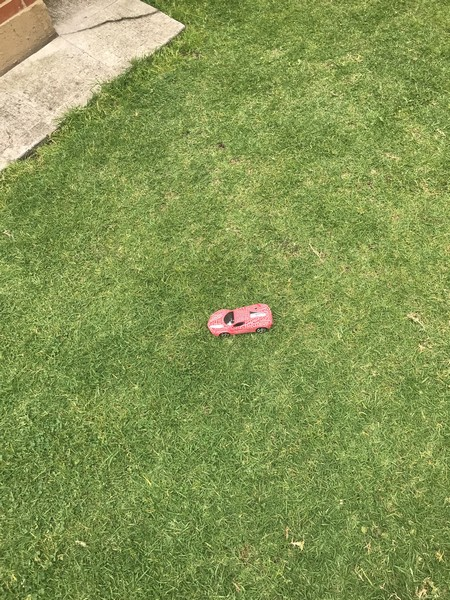RC: (207, 300, 274, 339)
